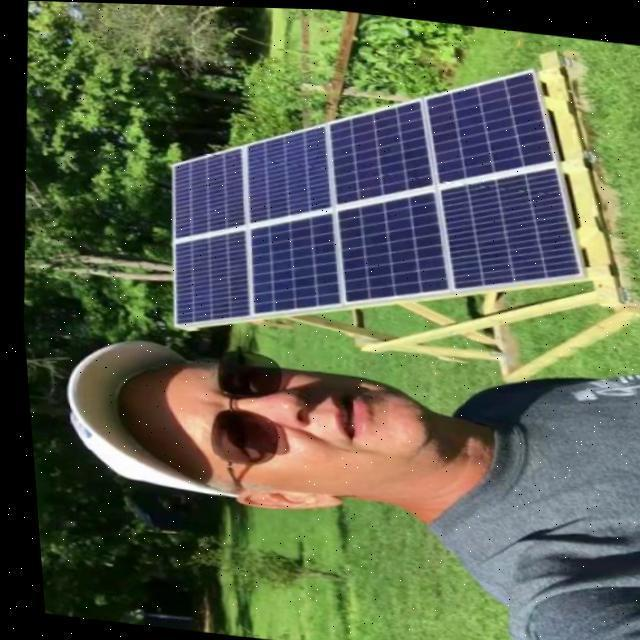Normal Solar Panel: (147, 25, 602, 370)
